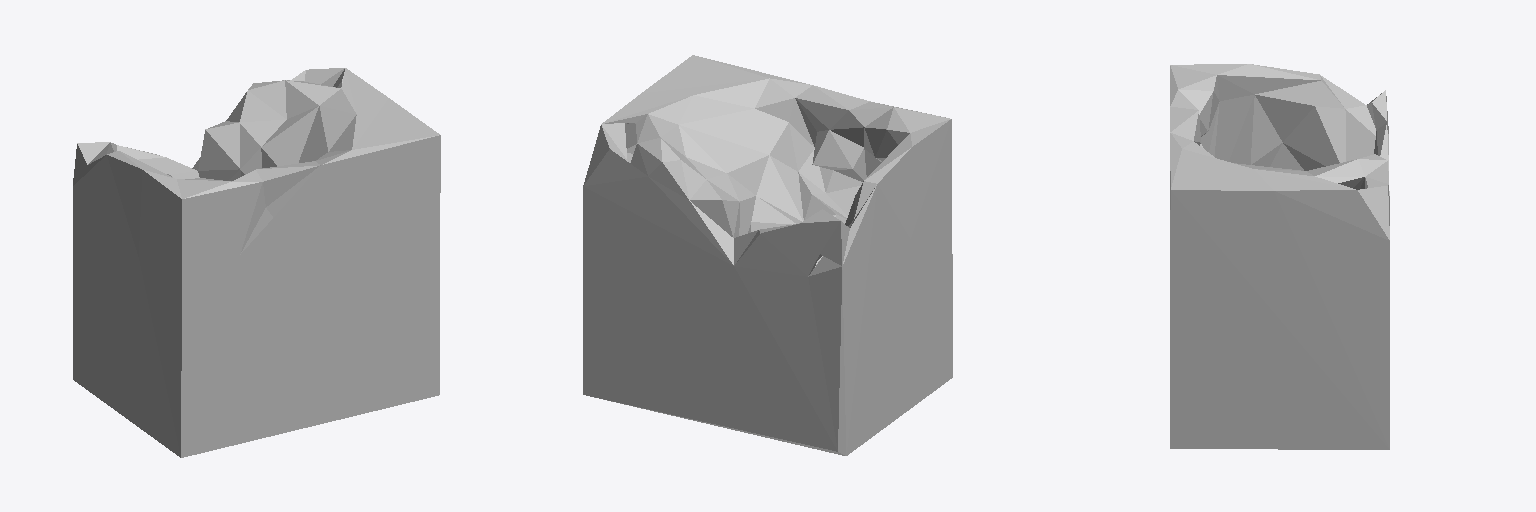
3 renders of one model, left to right at view 1: azimuth 30°, elevation 25°; view 2: azimuth 150°, elevation 25°; view 3: azimuth 270°, elevation 25°, orthographic.
Parts seen in each view (by area): view 1: Liquid_Domain; view 2: Liquid_Domain; view 3: Liquid_Domain.
Part boxes in pixels (bbox=[...]): Liquid_Domain: bbox=[73, 68, 440, 457]; Liquid_Domain: bbox=[583, 55, 952, 455]; Liquid_Domain: bbox=[1170, 64, 1389, 449].
Bounding box in the file's own units: 16.96 × 16.2 × 12.43.